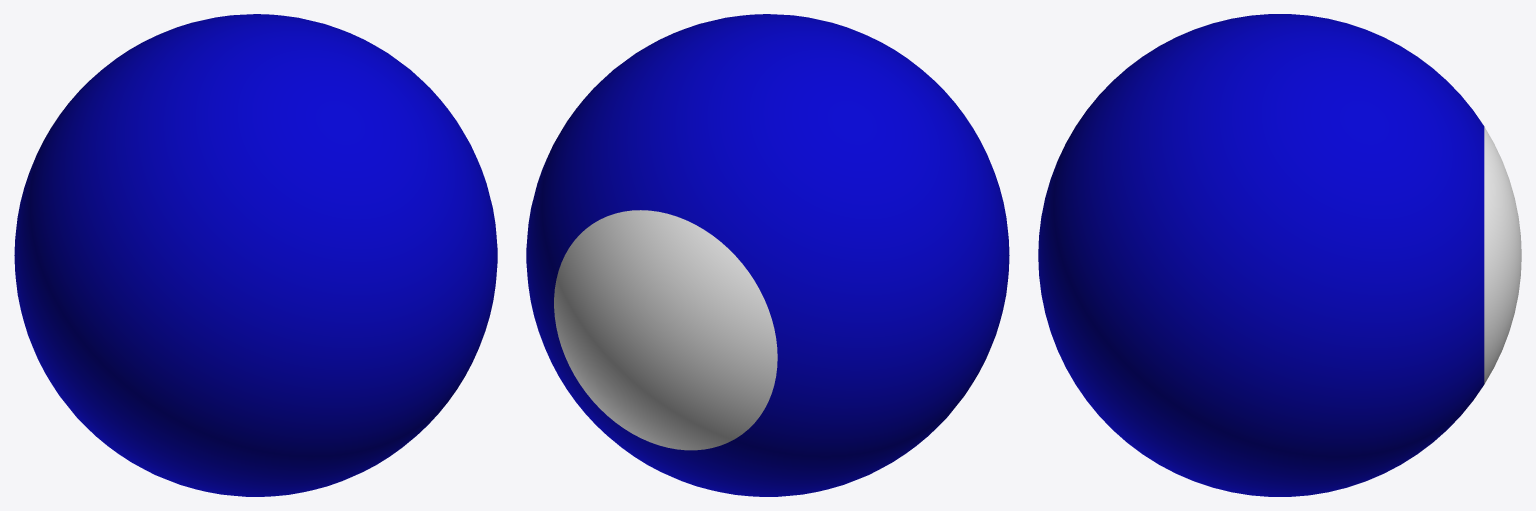
File: 2Ball.dae
3 renders of one model, left to right at view 1: azimuth 30°, elevation 25°; view 2: azimuth 150°, elevation 25°; view 3: azimuth 270°, elevation 25°, orthographic.
Size of the model in its own units: 0.0571 by 0.0572 by 0.0571.
